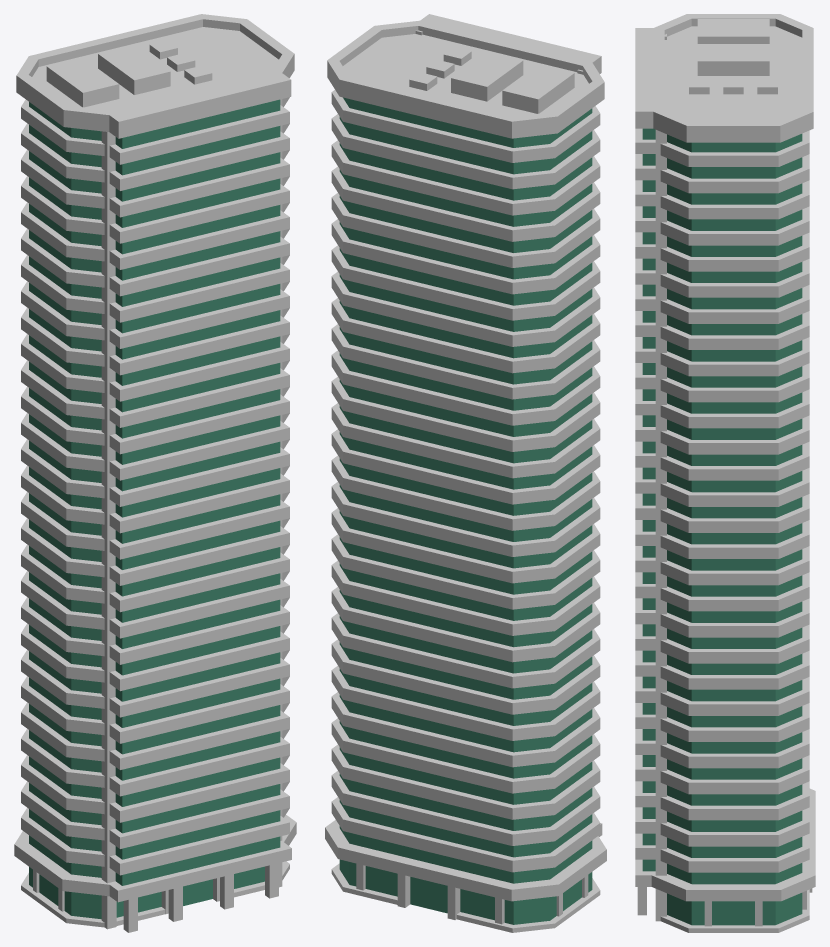
File: Town_Bld-Lrg_BuildingG.FBX
The picture shows the model from 3 angles, left to right: view 1: azimuth 30°, elevation 25°; view 2: azimuth 150°, elevation 25°; view 3: azimuth 270°, elevation 25°; orthographic projection.
Visible parts, largest first — view 1: Town_Bld-Lrg_BuildingG; view 2: Town_Bld-Lrg_BuildingG; view 3: Town_Bld-Lrg_BuildingG.
Boxes of the visible parts, x1,y1,x2,y2 form: Town_Bld-Lrg_BuildingG: [14, 14, 296, 932]; Town_Bld-Lrg_BuildingG: [325, 14, 606, 932]; Town_Bld-Lrg_BuildingG: [635, 14, 815, 932].
Size of the model in its own units: 1963 by 6580 by 1318.
